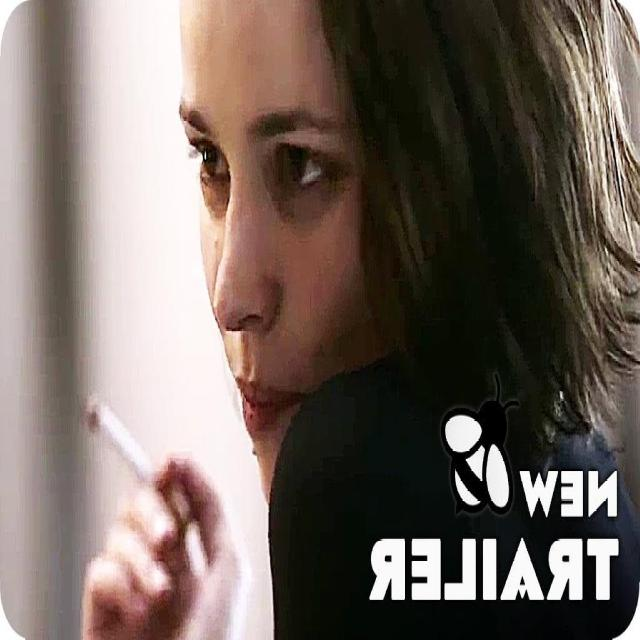smoking: (35, 0, 368, 561)
